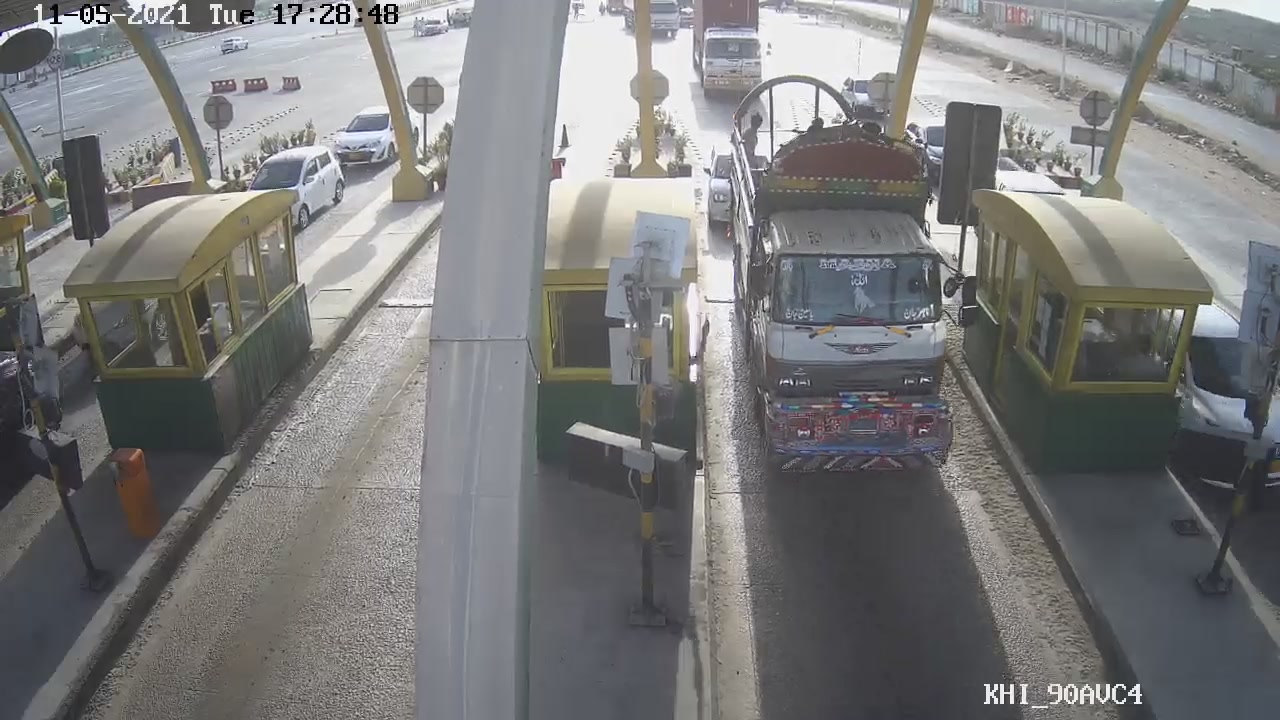F5: (725, 139, 997, 485)
